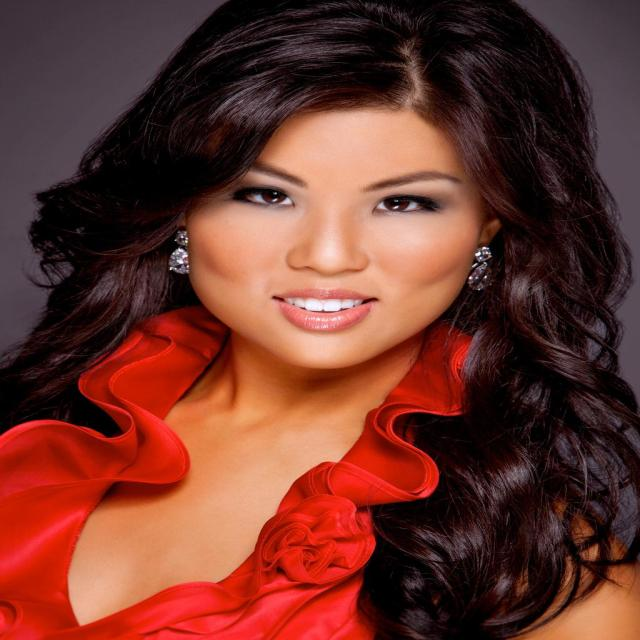Face: (181, 80, 511, 392)
